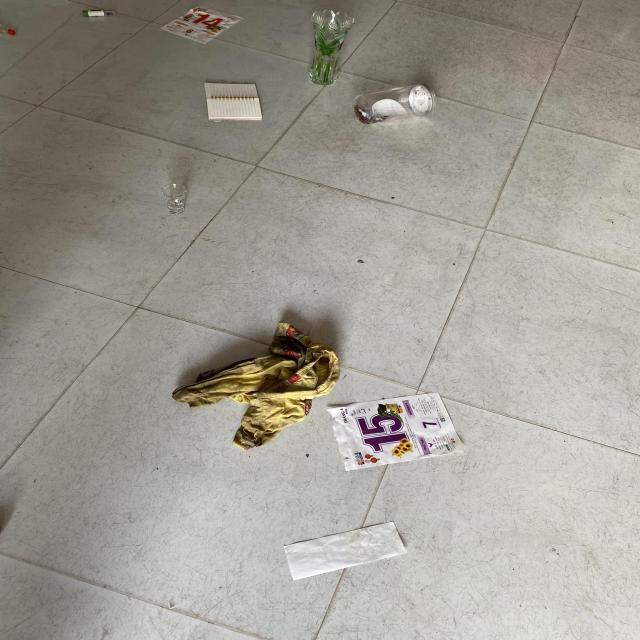foam box: (292, 8, 352, 102), (151, 180, 212, 236)
food: (327, 376, 482, 474), (260, 523, 430, 594), (142, 4, 242, 46), (196, 80, 266, 137)
leaf: (340, 69, 442, 130), (70, 4, 119, 20)
plastic: (170, 318, 353, 458)
